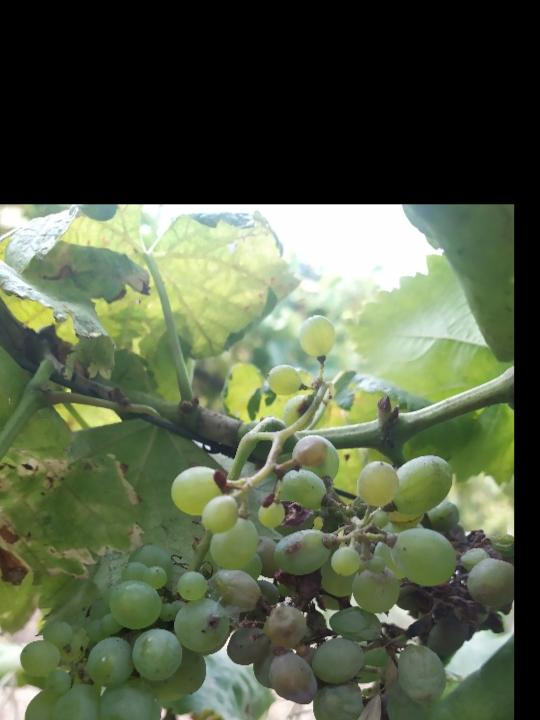grape: (168, 430, 514, 720)
